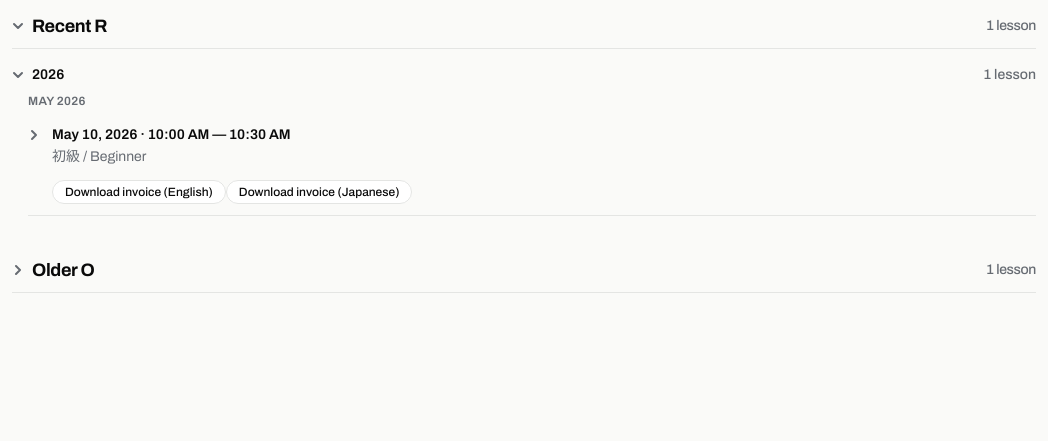
Test case: TeacherCompletedLessonsClient › expanding a closed student reveals their lessons
The width and height of the screenshot is (1048, 441).
Click the button "Older O 1 lesson".
click(63, 270)  # box [12,256,1036,292]
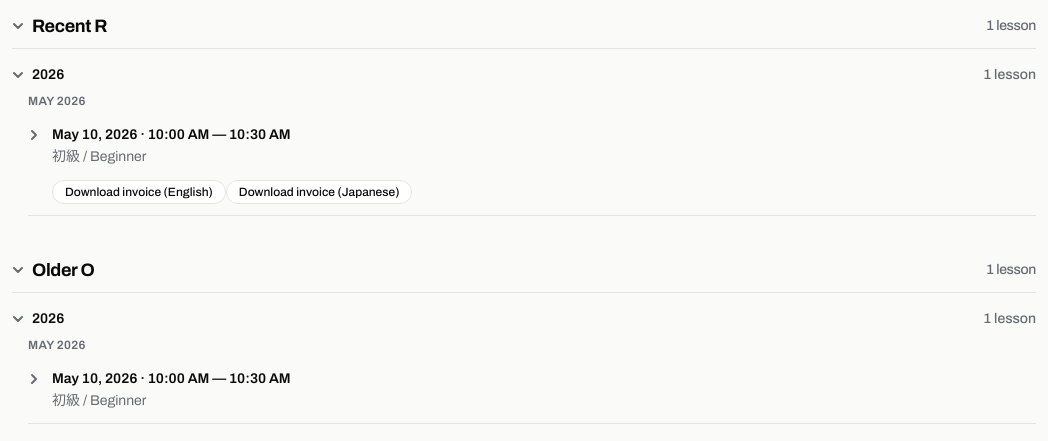
Check: the number of buttons "May 10, 2026 · 10:00 AM — 10:30 AM 初級 / Beginner" is 2, box [28,113,1036,179]; [28,357,1036,423]
